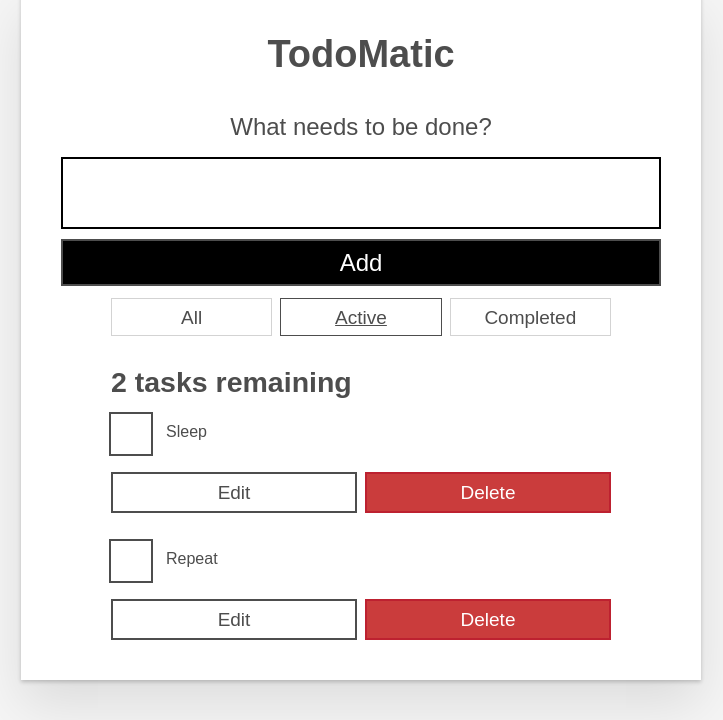
it: Todo App › Test nine - check for all completed tasks
(page scrolled)
Click the button "Completed".
click(531, 318)  # box [450,298,611,337]
(page scrolled)
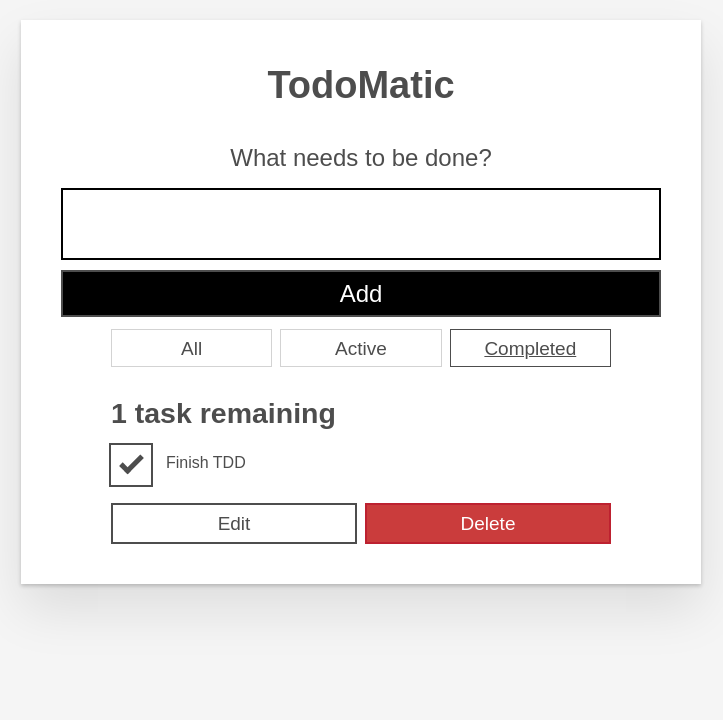
Result: the number of elements with class "c-cb" is 1 at [166,454,246,471]
